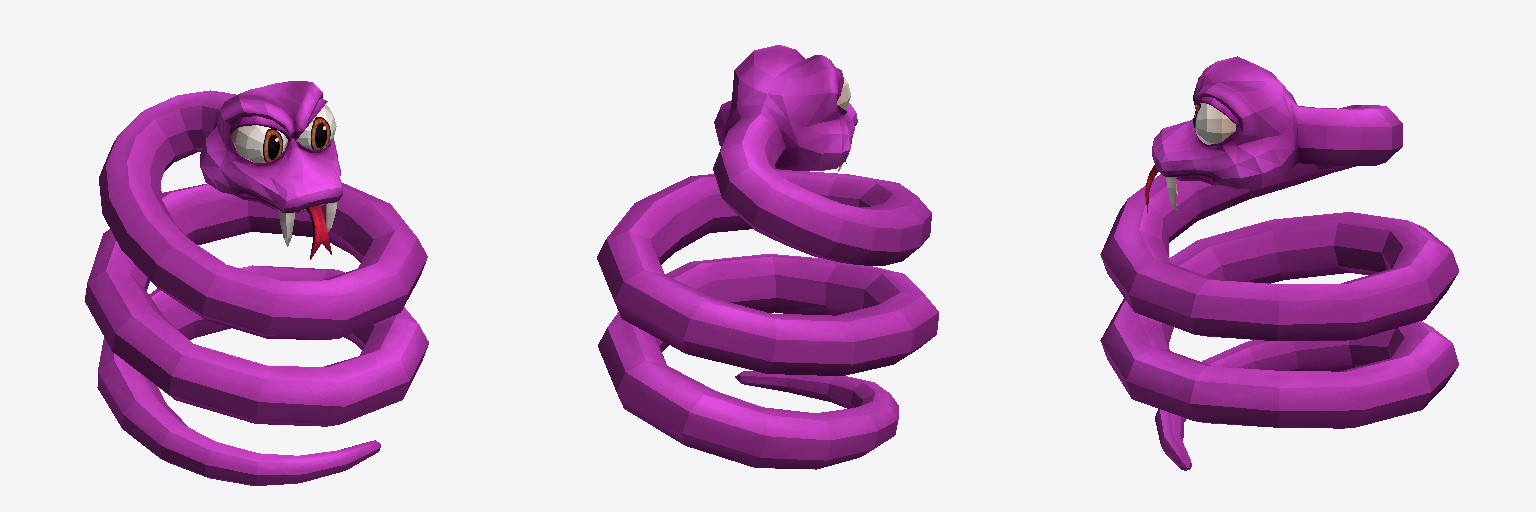
3 renders of one model, left to right at view 1: azimuth 30°, elevation 25°; view 2: azimuth 150°, elevation 25°; view 3: azimuth 270°, elevation 25°, orthographic.
Parts seen in each view (by area): view 1: Coily_Coily; view 2: Coily_Coily; view 3: Coily_Coily.
Boxes of the visible parts, x1=… form: Coily_Coily: x1=85, y1=81, x2=428, y2=485; Coily_Coily: x1=597, y1=45, x2=938, y2=469; Coily_Coily: x1=1100, y1=56, x2=1458, y2=470.
Bounding box in the file's own units: 1.23 × 1.51 × 1.34.
1 materials, 1 textured.